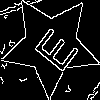E: (25, 20, 80, 75)
